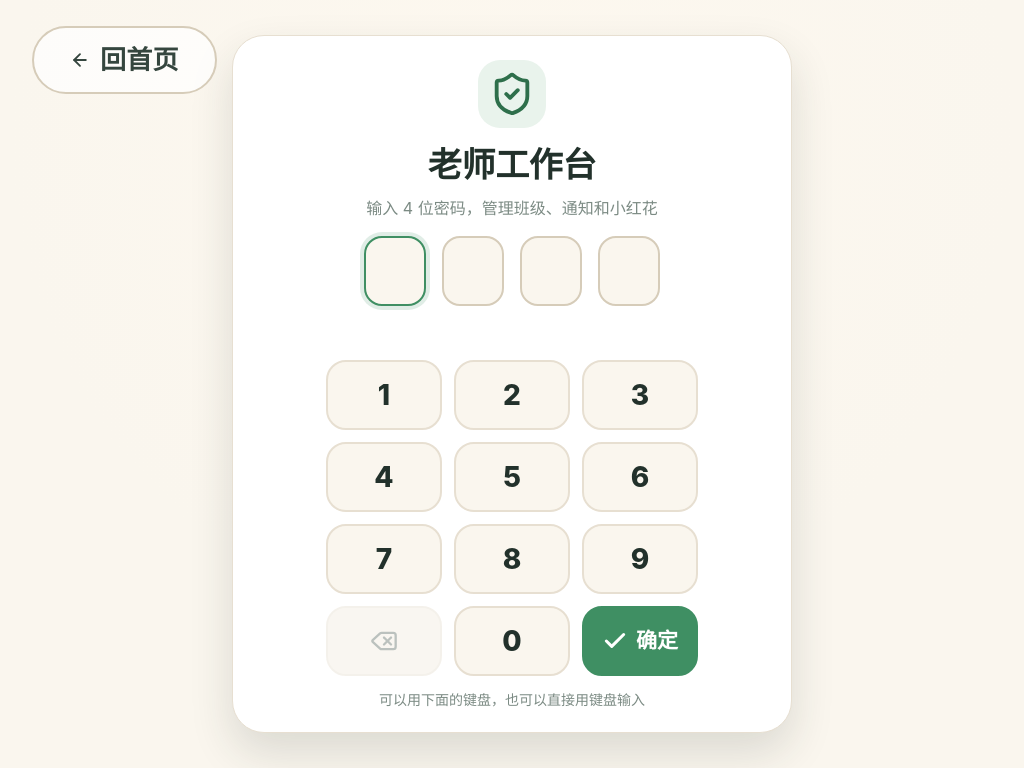
Scenario: PinGate › TestLocksKeyboardAfterTooManyAttempts
Click the button "1".
click(384, 395)  # box [326, 360, 442, 430]
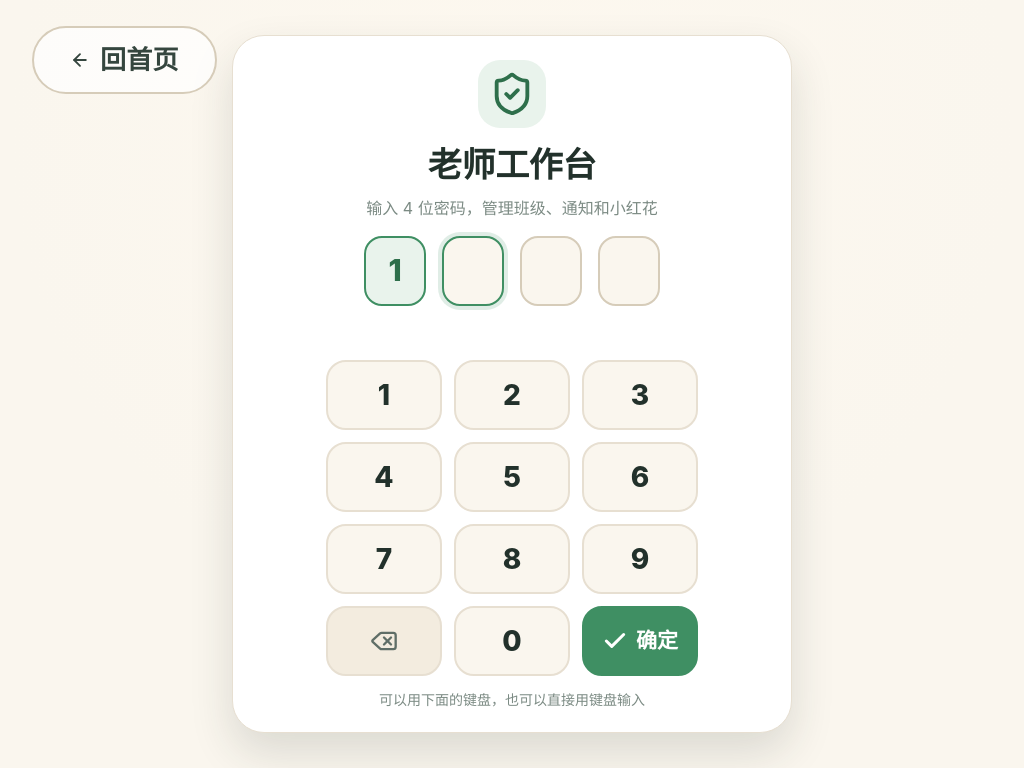
Click the button "1".
click(384, 395)  # box [326, 360, 442, 430]
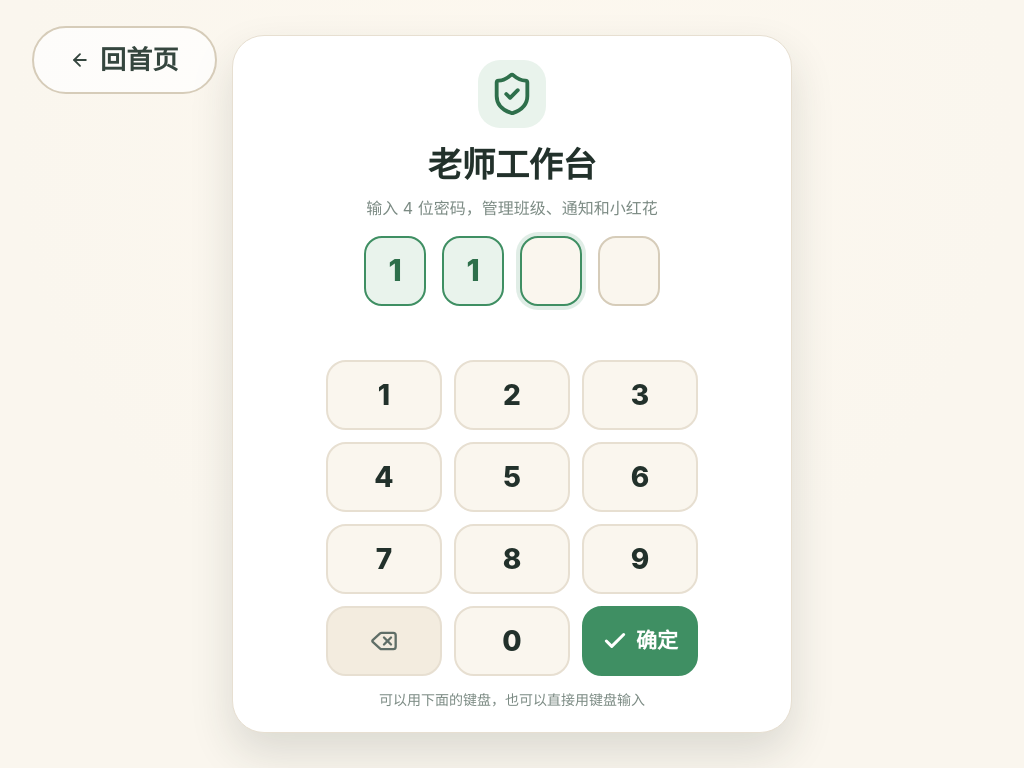
Click the button "1".
click(384, 395)  # box [326, 360, 442, 430]
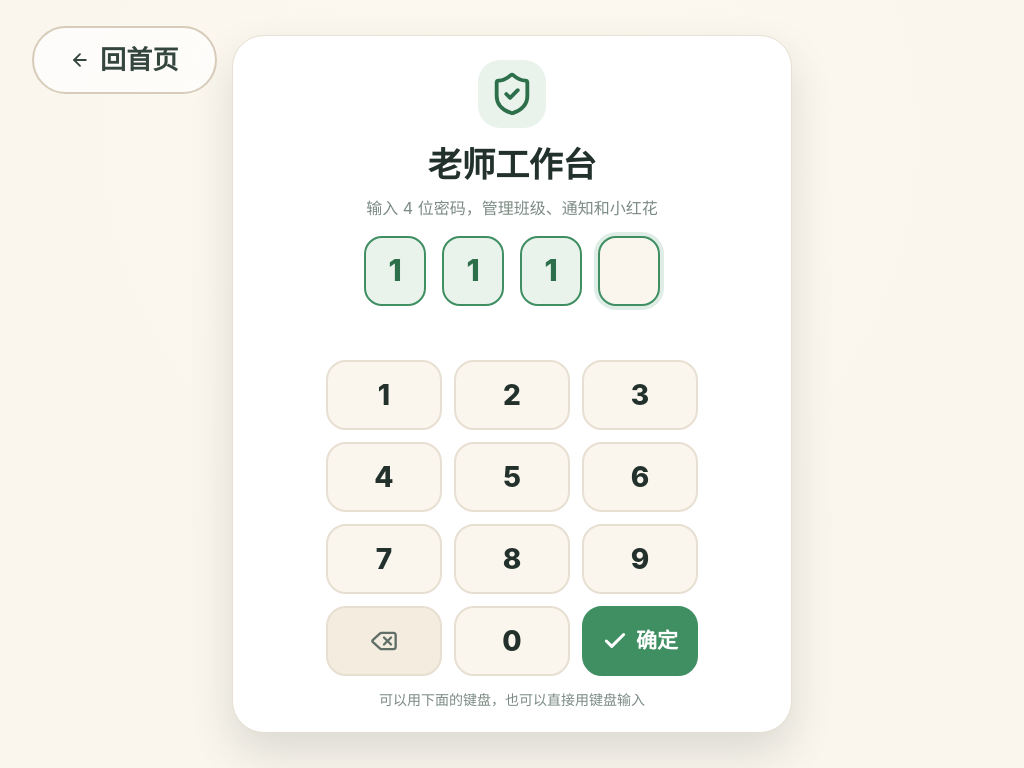
Click the button "1".
click(384, 395)  # box [326, 360, 442, 430]
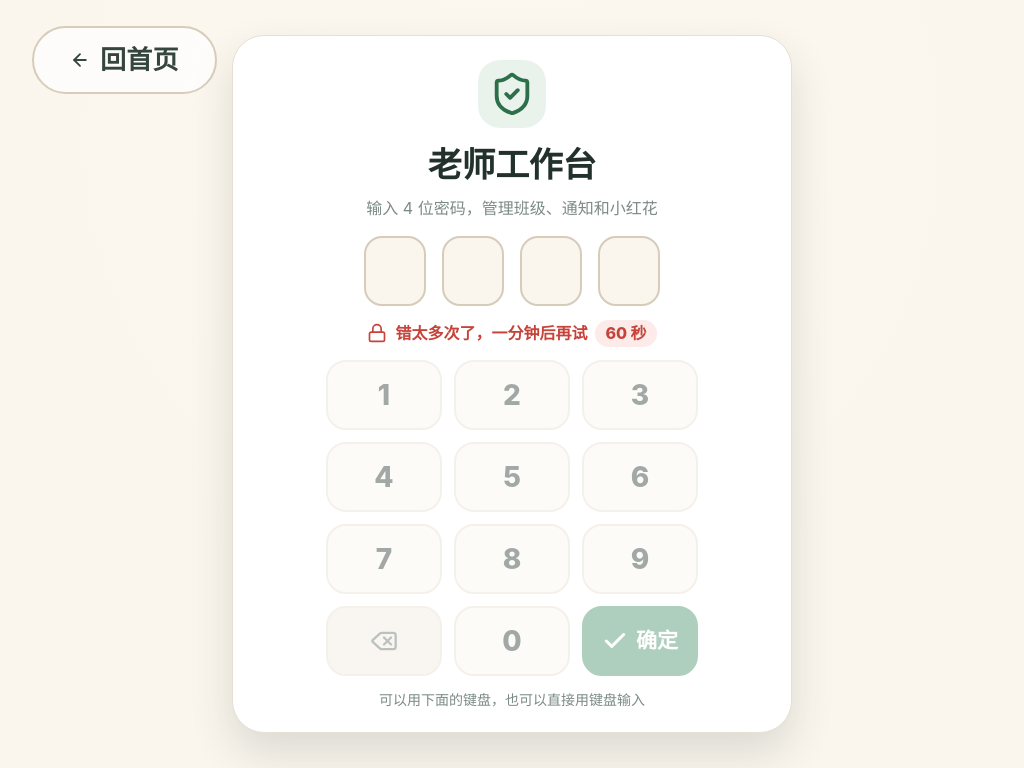
Result: the message shows "错太多次了" at [395, 322, 587, 342]
Result: the text "60 秒" is shown at [595, 320, 657, 347]
Result: the button "1" is disabled at [326, 360, 442, 430]
